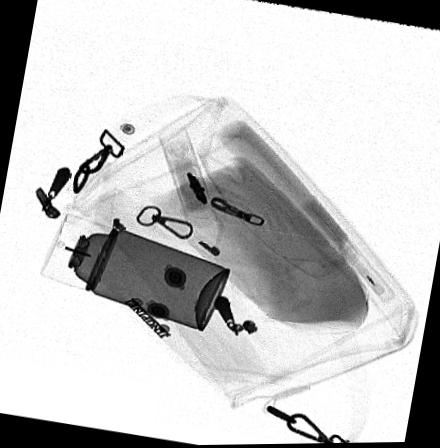Sprayer: (38, 211, 231, 331)
